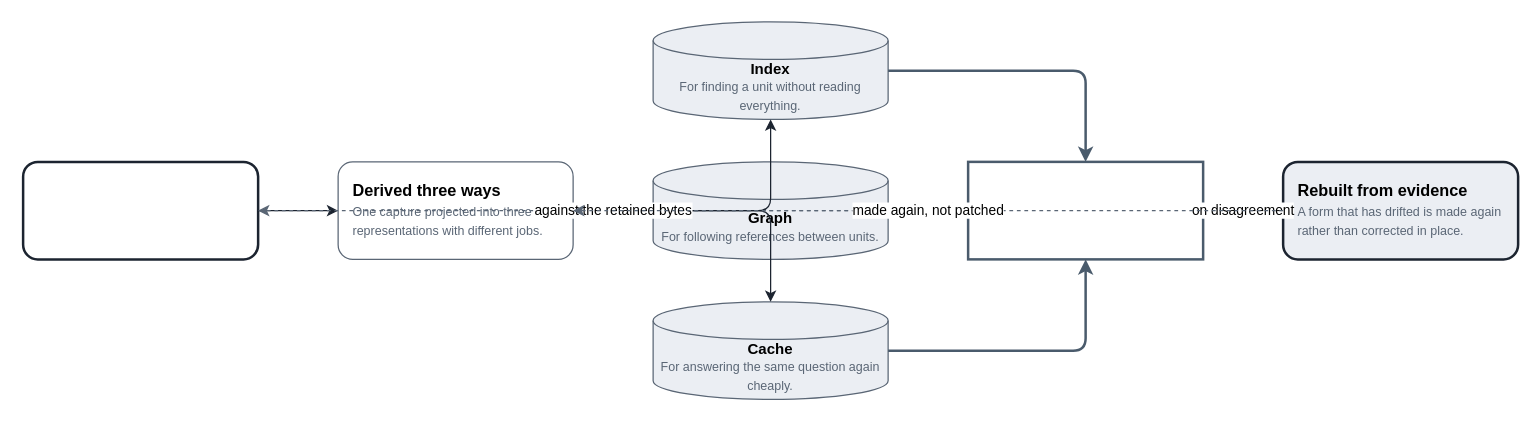
The diagram is 1540 pixels wide and 421 high, and some of its shapes have lost their labels. Each missing label, with the box of its shape:
Captured source Illustrative throughout. The retained bytes are the evidence.: (21, 160, 259, 260)
Checked backwards From each derived form to the evidence, not forward from it.: (966, 160, 1204, 260)
